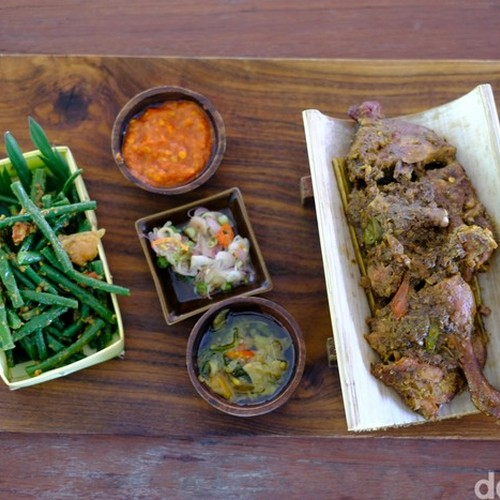bebek timbungan: (313, 85, 500, 430)
